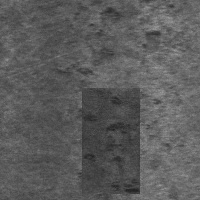rolled-in_scale: (82, 88, 140, 194), (73, 147, 141, 199)
